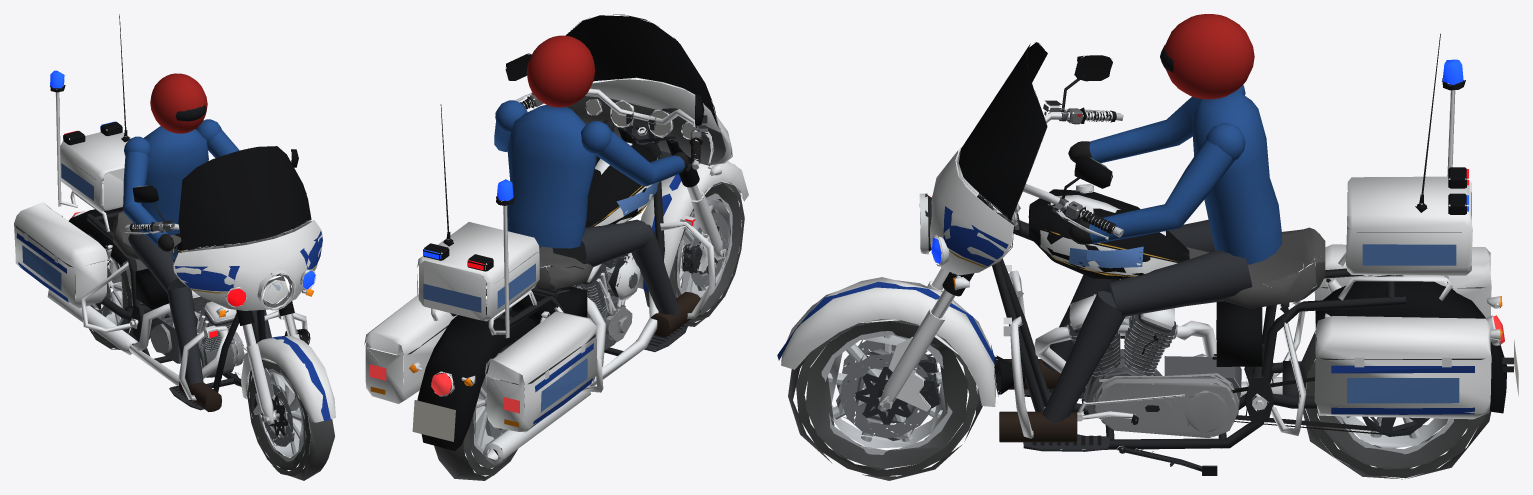
The model's file is vb_police.glb.
3 views of the same model, side by side, from view 1: azimuth 30°, elevation 25°; view 2: azimuth 150°, elevation 25°; view 3: azimuth 270°, elevation 25° (orthographic). The views are drawn at different scales.
Visible parts, largest first — view 1: fork, body, rider_torso, wheel_front, rider_legs, rider_head, wheel_rear; view 2: body, fork, rider_torso, rider_legs, wheel_front, rider_head, wheel_rear; view 3: body, fork, wheel_front, rider_torso, rider_legs, wheel_rear, rider_head.
Boxes of the visible parts, x1,y1,x2,y2 form: fork: (125, 146, 335, 425); body: (14, 14, 310, 410); rider_torso: (123, 119, 239, 251); wheel_front: (247, 359, 334, 480); rider_legs: (128, 229, 271, 411); rider_head: (150, 73, 207, 133); wheel_rear: (75, 234, 152, 349); body: (364, 104, 715, 465); fork: (495, 14, 748, 291); rider_torso: (494, 100, 688, 248); rider_legs: (539, 219, 700, 336); wheel_front: (644, 182, 744, 326); rider_head: (526, 35, 595, 107); wheel_rear: (434, 339, 517, 480); body: (992, 33, 1518, 475); fork: (777, 42, 1123, 412); wheel_front: (788, 319, 982, 480); rider_torso: (1068, 85, 1281, 264); rider_legs: (999, 219, 1252, 442); wheel_rear: (1299, 331, 1491, 479); rider_head: (1160, 14, 1254, 99).
Bounding box in the file's own units: 0.9671 × 1.63 × 2.38.
